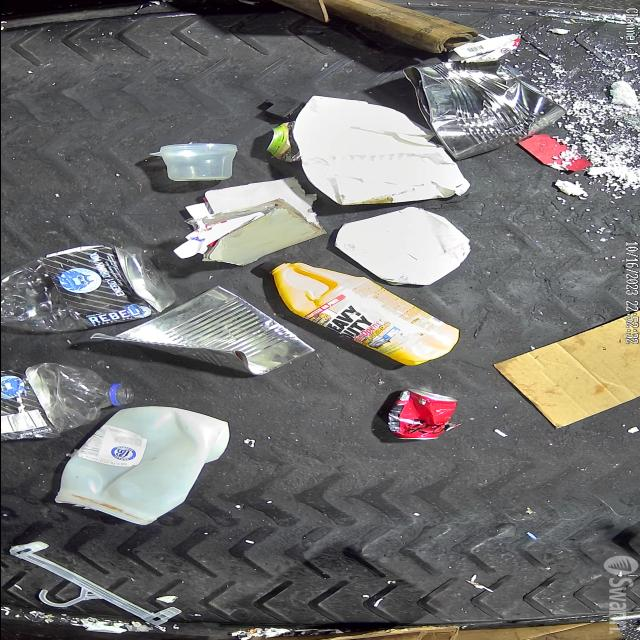can: (396, 52, 564, 156), (386, 388, 458, 441), (266, 125, 296, 162)
milk_jug: (52, 406, 228, 526)
non_white_jug: (260, 258, 462, 362)
plastic_bottle: (0, 245, 178, 334), (0, 363, 133, 441)
